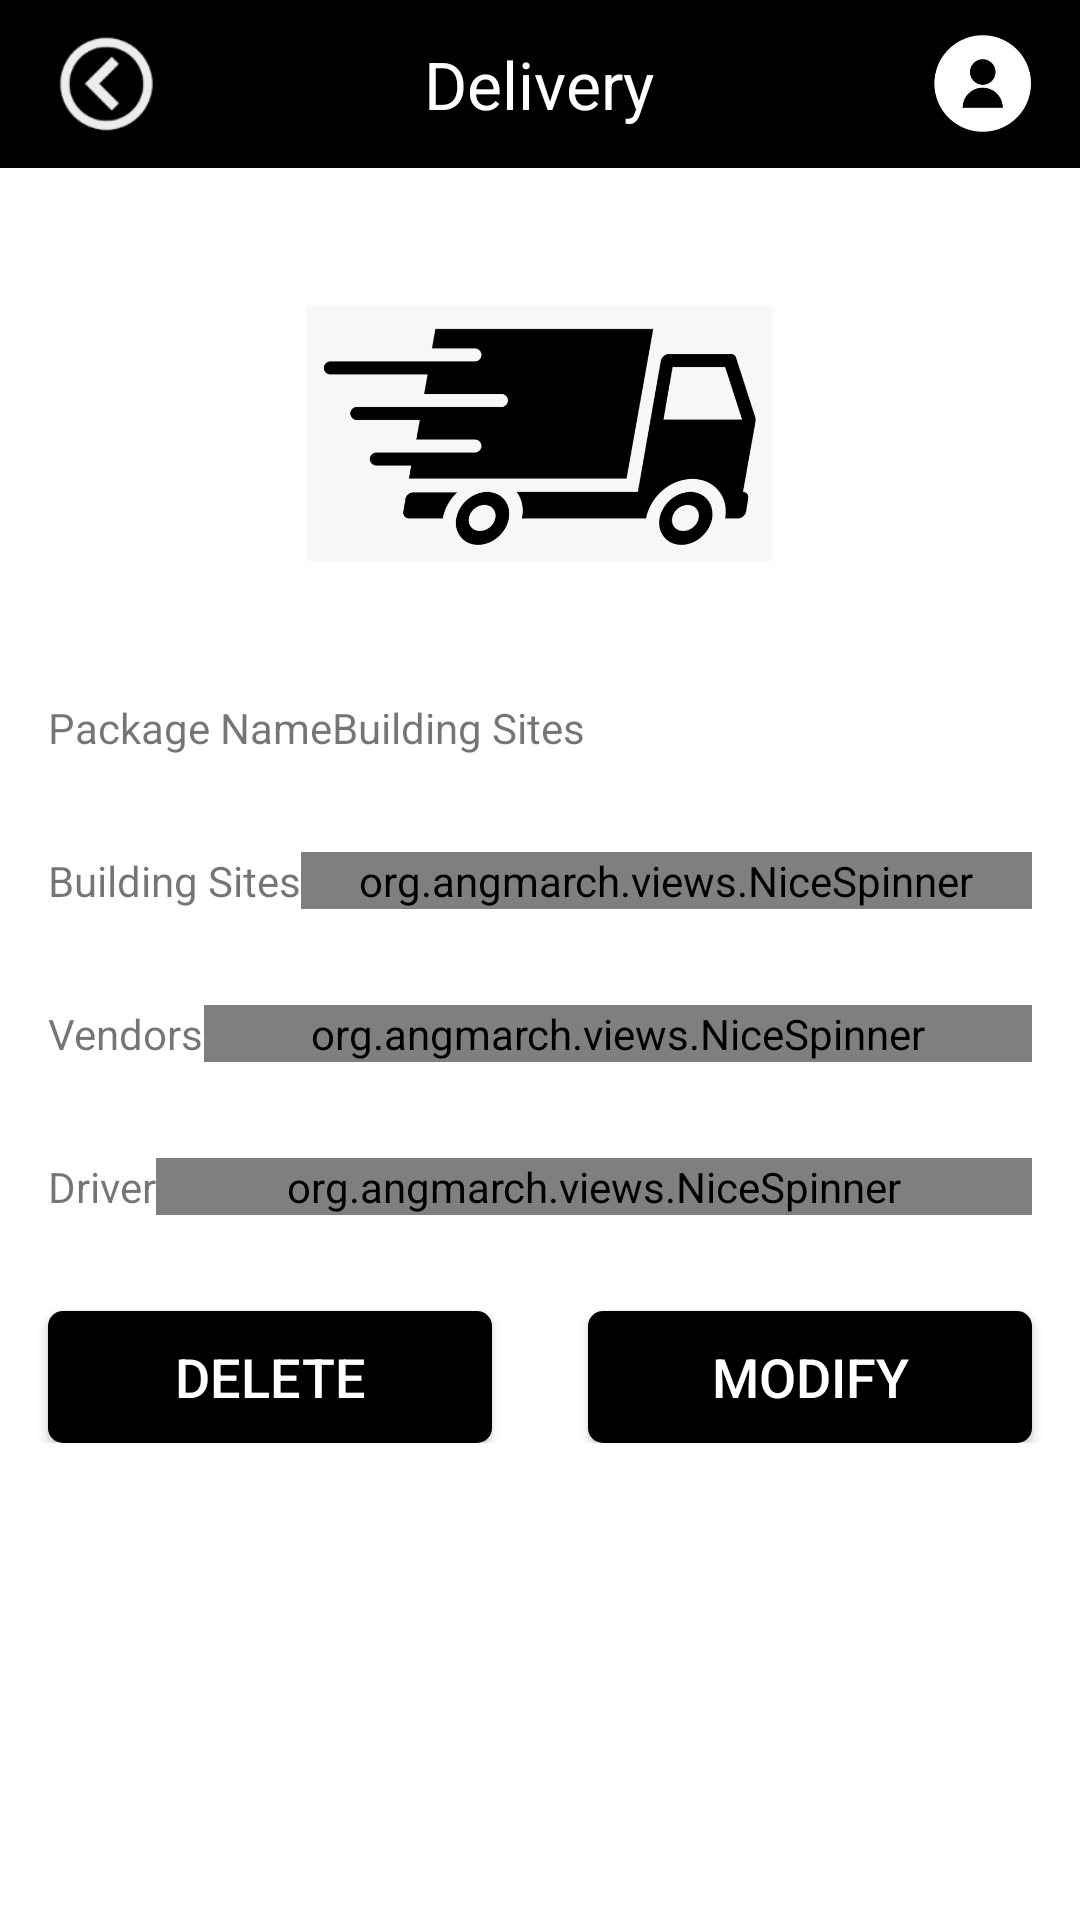

Where to tap for icons on this 1080 × 1920 app screen, as [x,y]:
account: [982,83]
back: [106,84]
